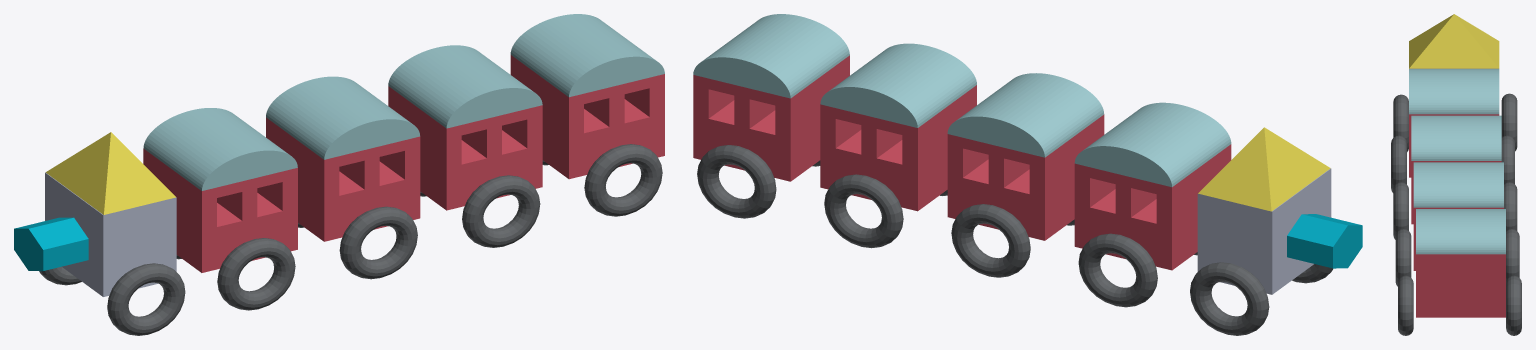
Rendered from Funky Hango.glb.
The picture shows the model from 3 angles, left to right: view 1: azimuth 30°, elevation 25°; view 2: azimuth 150°, elevation 25°; view 3: azimuth 270°, elevation 25°; orthographic projection. The views are drawn at different scales.
Visible parts, largest first — view 1: Mesh_Mesh_head_geo.001_lambert2SG.001; view 2: Mesh_Mesh_head_geo.001_lambert2SG.001; view 3: Mesh_Mesh_head_geo.001_lambert2SG.001.
Part boxes in pixels (box(x1,y1,x2,y2)): Mesh_Mesh_head_geo.001_lambert2SG.001: box(14, 14, 664, 335); Mesh_Mesh_head_geo.001_lambert2SG.001: box(693, 14, 1362, 335); Mesh_Mesh_head_geo.001_lambert2SG.001: box(1391, 14, 1521, 335).
Bounding box in the file's own units: 242 × 67 × 58.
